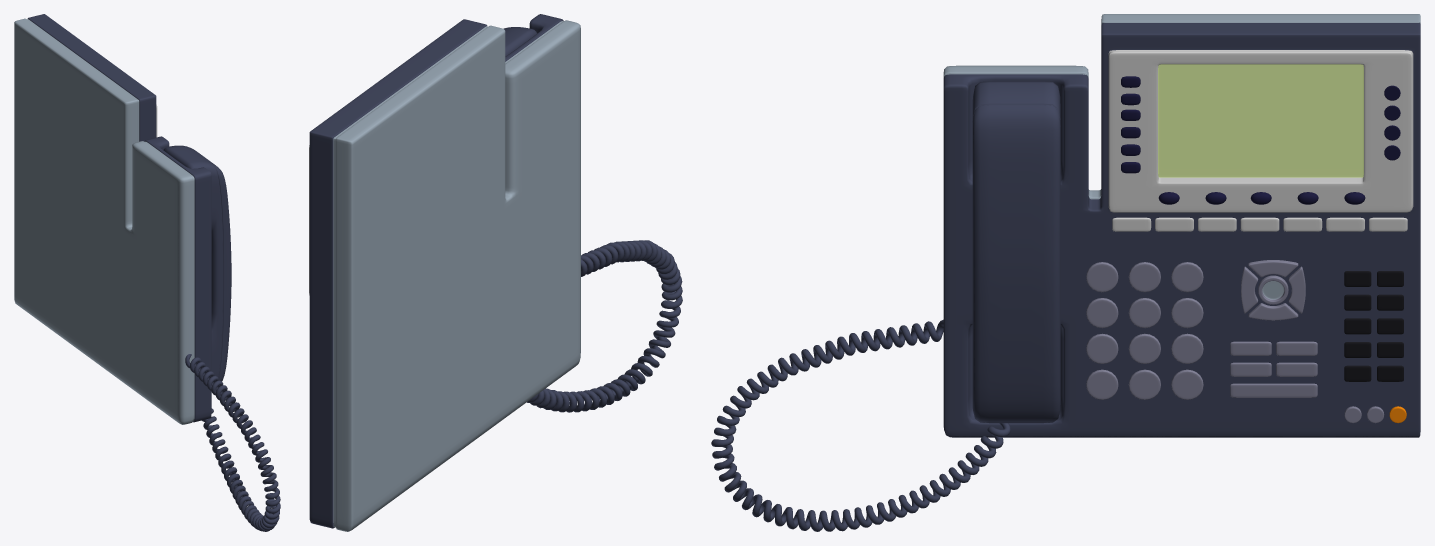
File: Phone.glb
3 renders of one model, left to right at view 1: azimuth 30°, elevation 25°; view 2: azimuth 150°, elevation 25°; view 3: azimuth 270°, elevation 25°, orthographic. The views are drawn at different scales.
Parts seen in each view (by area): view 1: Phone.001; view 2: Phone.001; view 3: Phone.001.
Part boxes in pixels (x1,y1,x2,y2): Phone.001: [14, 14, 280, 531]; Phone.001: [309, 14, 682, 531]; Phone.001: [711, 14, 1420, 531].
Bounding box in the file's own units: 1.01 × 5.42 × 6.97.
